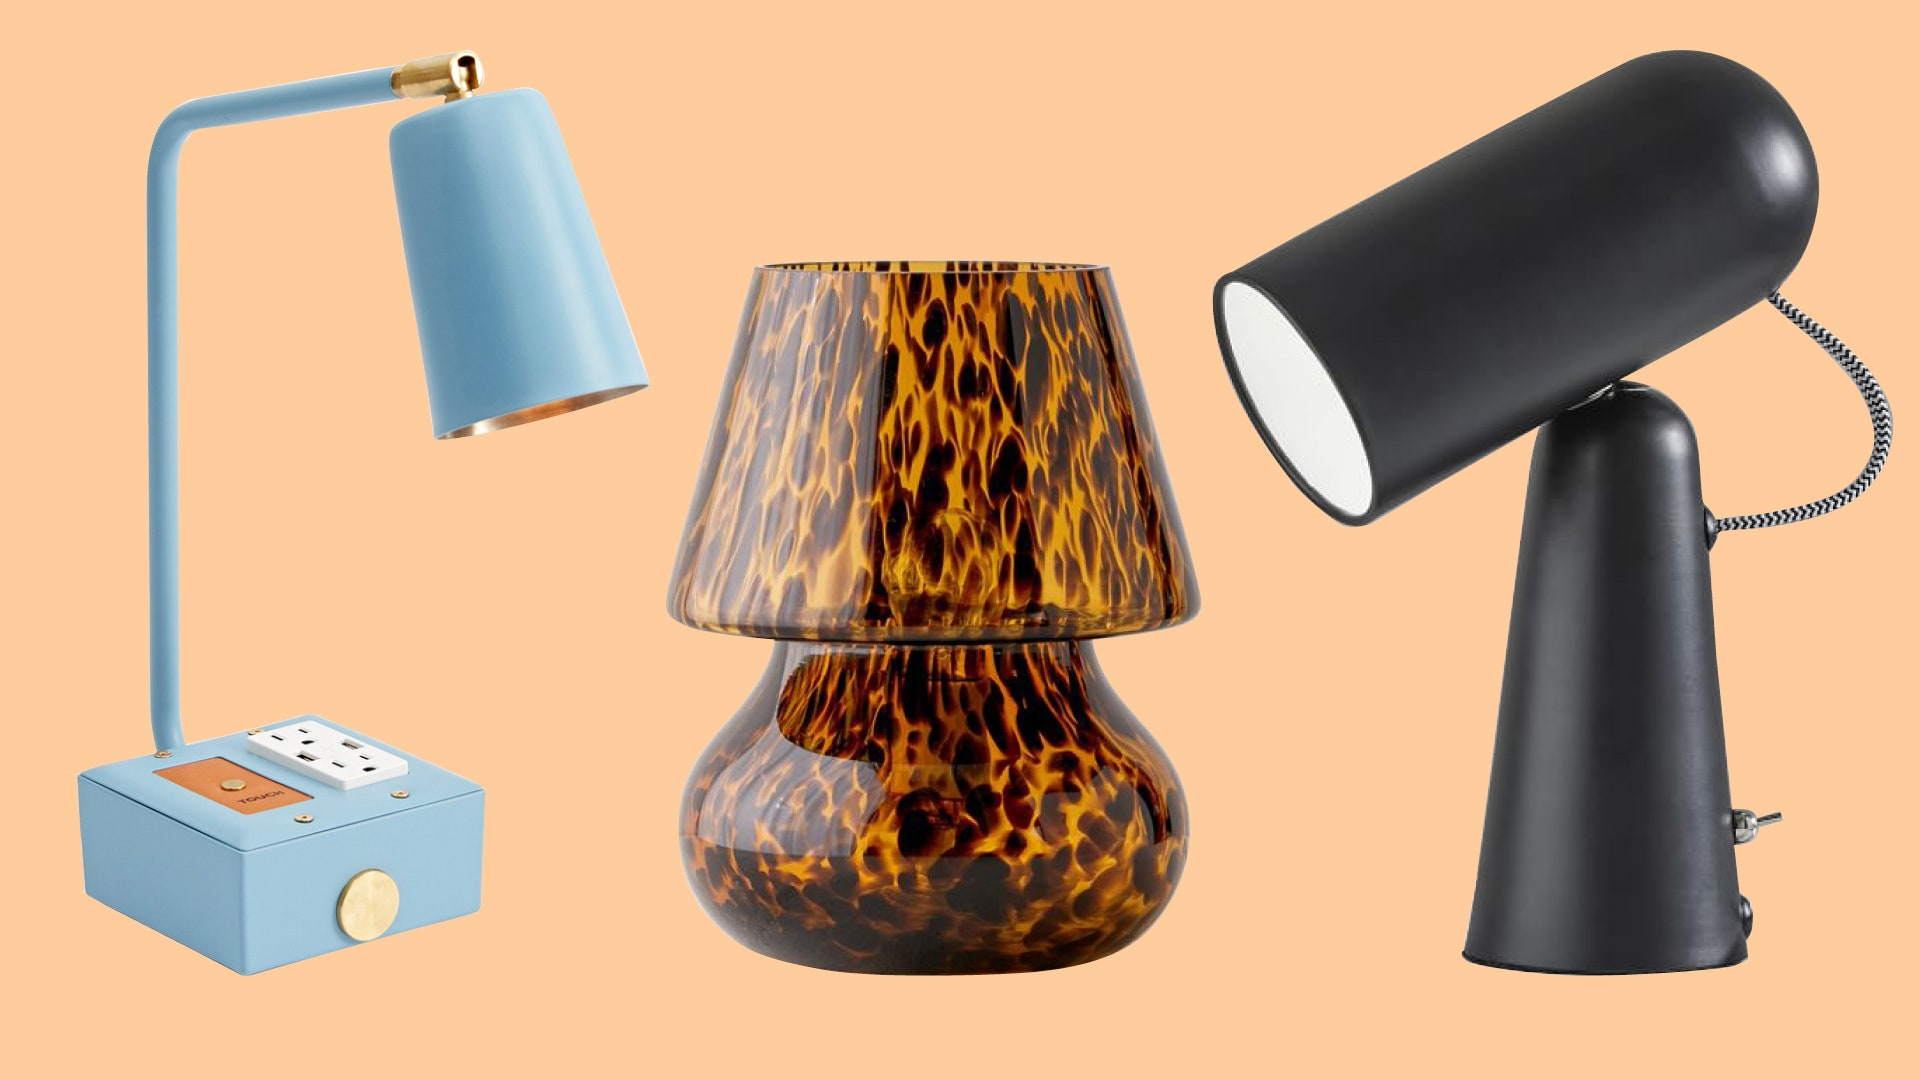lampu: (1217, 34, 1912, 992), (73, 45, 642, 971), (662, 258, 1204, 968)
